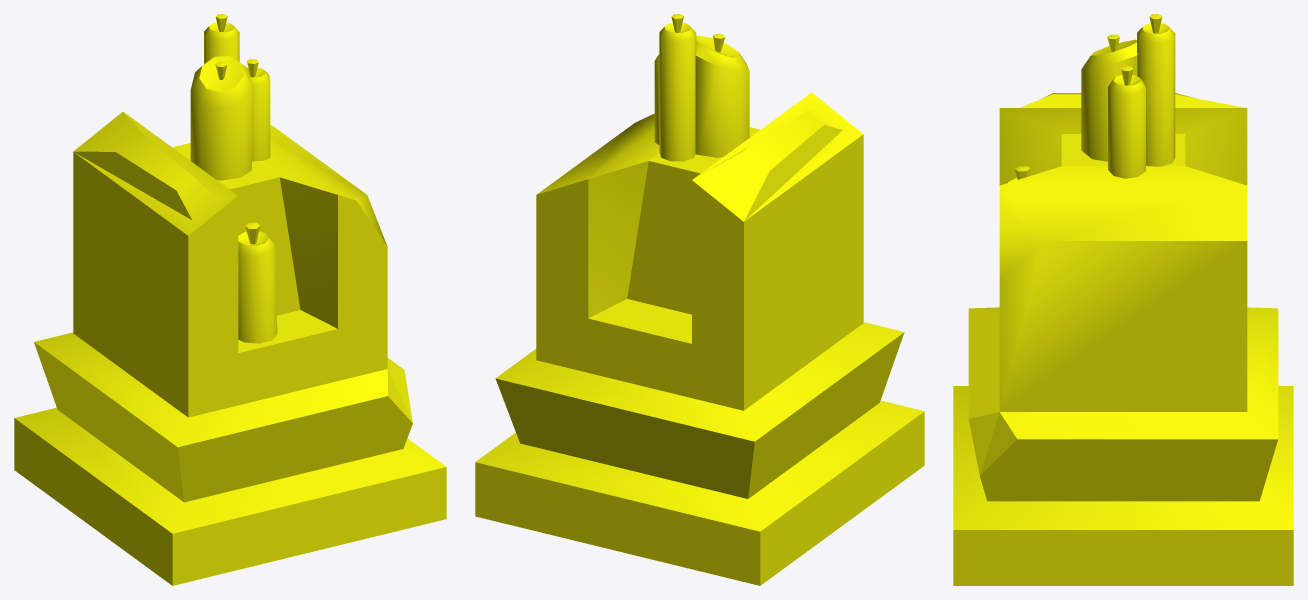
The model's file is kaykit-shrine-candles.glb.
3 views of the same model, side by side, from view 1: azimuth 30°, elevation 25°; view 2: azimuth 150°, elevation 25°; view 3: azimuth 270°, elevation 25° (orthographic). The views are drawn at different scales.
Parts seen in each view (by area): view 1: shrine_candles; view 2: shrine_candles; view 3: shrine_candles.
Part boxes in pixels (<box>): shrine_candles: <box>14,14,446,585</box>; shrine_candles: <box>475,14,924,585</box>; shrine_candles: <box>953,14,1293,585</box>.
Bounding box in the file's own units: 1.1 × 1.79 × 1.1.
